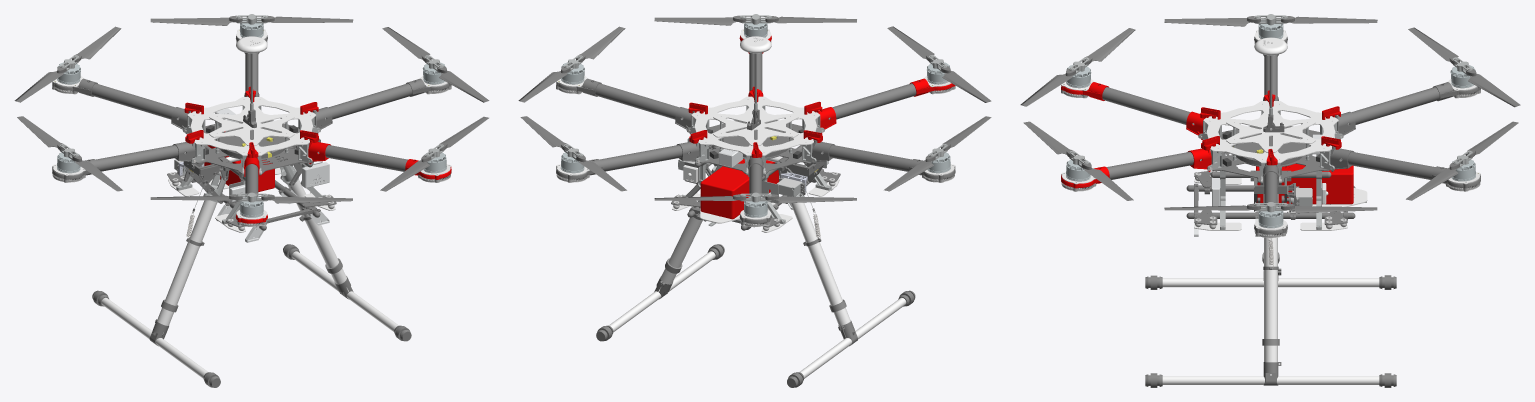
File: drone2.glb
3 renders of one model, left to right at view 1: azimuth 30°, elevation 25°; view 2: azimuth 150°, elevation 25°; view 3: azimuth 270°, elevation 25°, orthographic. The views are drawn at different scales.
Visible parts, largest first — view 1: 3DGeom-9, 3DGeom-3, 3DGeom-7.001, 3DGeom-8, 3DGeom-5, 3DGeom-14, 3DGeom-1, 3DGeom-6; view 2: 3DGeom-9, 3DGeom-3, 3DGeom-8, 3DGeom-7.001, 3DGeom-5, 3DGeom-1, 3DGeom-6, 3DGeom-12; view 3: 3DGeom-9, 3DGeom-3, 3DGeom-8, 3DGeom-7.001, 3DGeom-5, 3DGeom-1, 3DGeom-12.
Part boxes in pixels (bbox=[...]): 3DGeom-9: bbox=[14, 15, 489, 387]; 3DGeom-3: bbox=[52, 29, 451, 378]; 3DGeom-7.001: bbox=[59, 14, 444, 224]; 3DGeom-8: bbox=[184, 86, 451, 223]; 3DGeom-5: bbox=[57, 19, 446, 217]; 3DGeom-14: bbox=[215, 108, 329, 242]; 3DGeom-1: bbox=[52, 41, 451, 226]; 3DGeom-6: bbox=[161, 53, 342, 312]; 3DGeom-9: bbox=[518, 15, 991, 387]; 3DGeom-3: bbox=[556, 29, 955, 378]; 3DGeom-8: bbox=[688, 35, 955, 219]; 3DGeom-7.001: bbox=[563, 14, 947, 226]; 3DGeom-5: bbox=[560, 19, 950, 217]; 3DGeom-1: bbox=[556, 41, 955, 226]; 3DGeom-6: bbox=[665, 53, 846, 312]; 3DGeom-12: bbox=[673, 122, 837, 232]; 3DGeom-9: bbox=[1020, 16, 1520, 387]; 3DGeom-3: bbox=[1061, 29, 1480, 384]; 3DGeom-8: bbox=[1061, 82, 1353, 204]; 3DGeom-7.001: bbox=[1069, 14, 1472, 238]; 3DGeom-5: bbox=[1066, 19, 1475, 228]; 3DGeom-1: bbox=[1061, 42, 1480, 237]; 3DGeom-12: bbox=[1195, 128, 1346, 229].
Bounding box in the file's own units: 0.8716 × 0.5932 × 0.9112.
